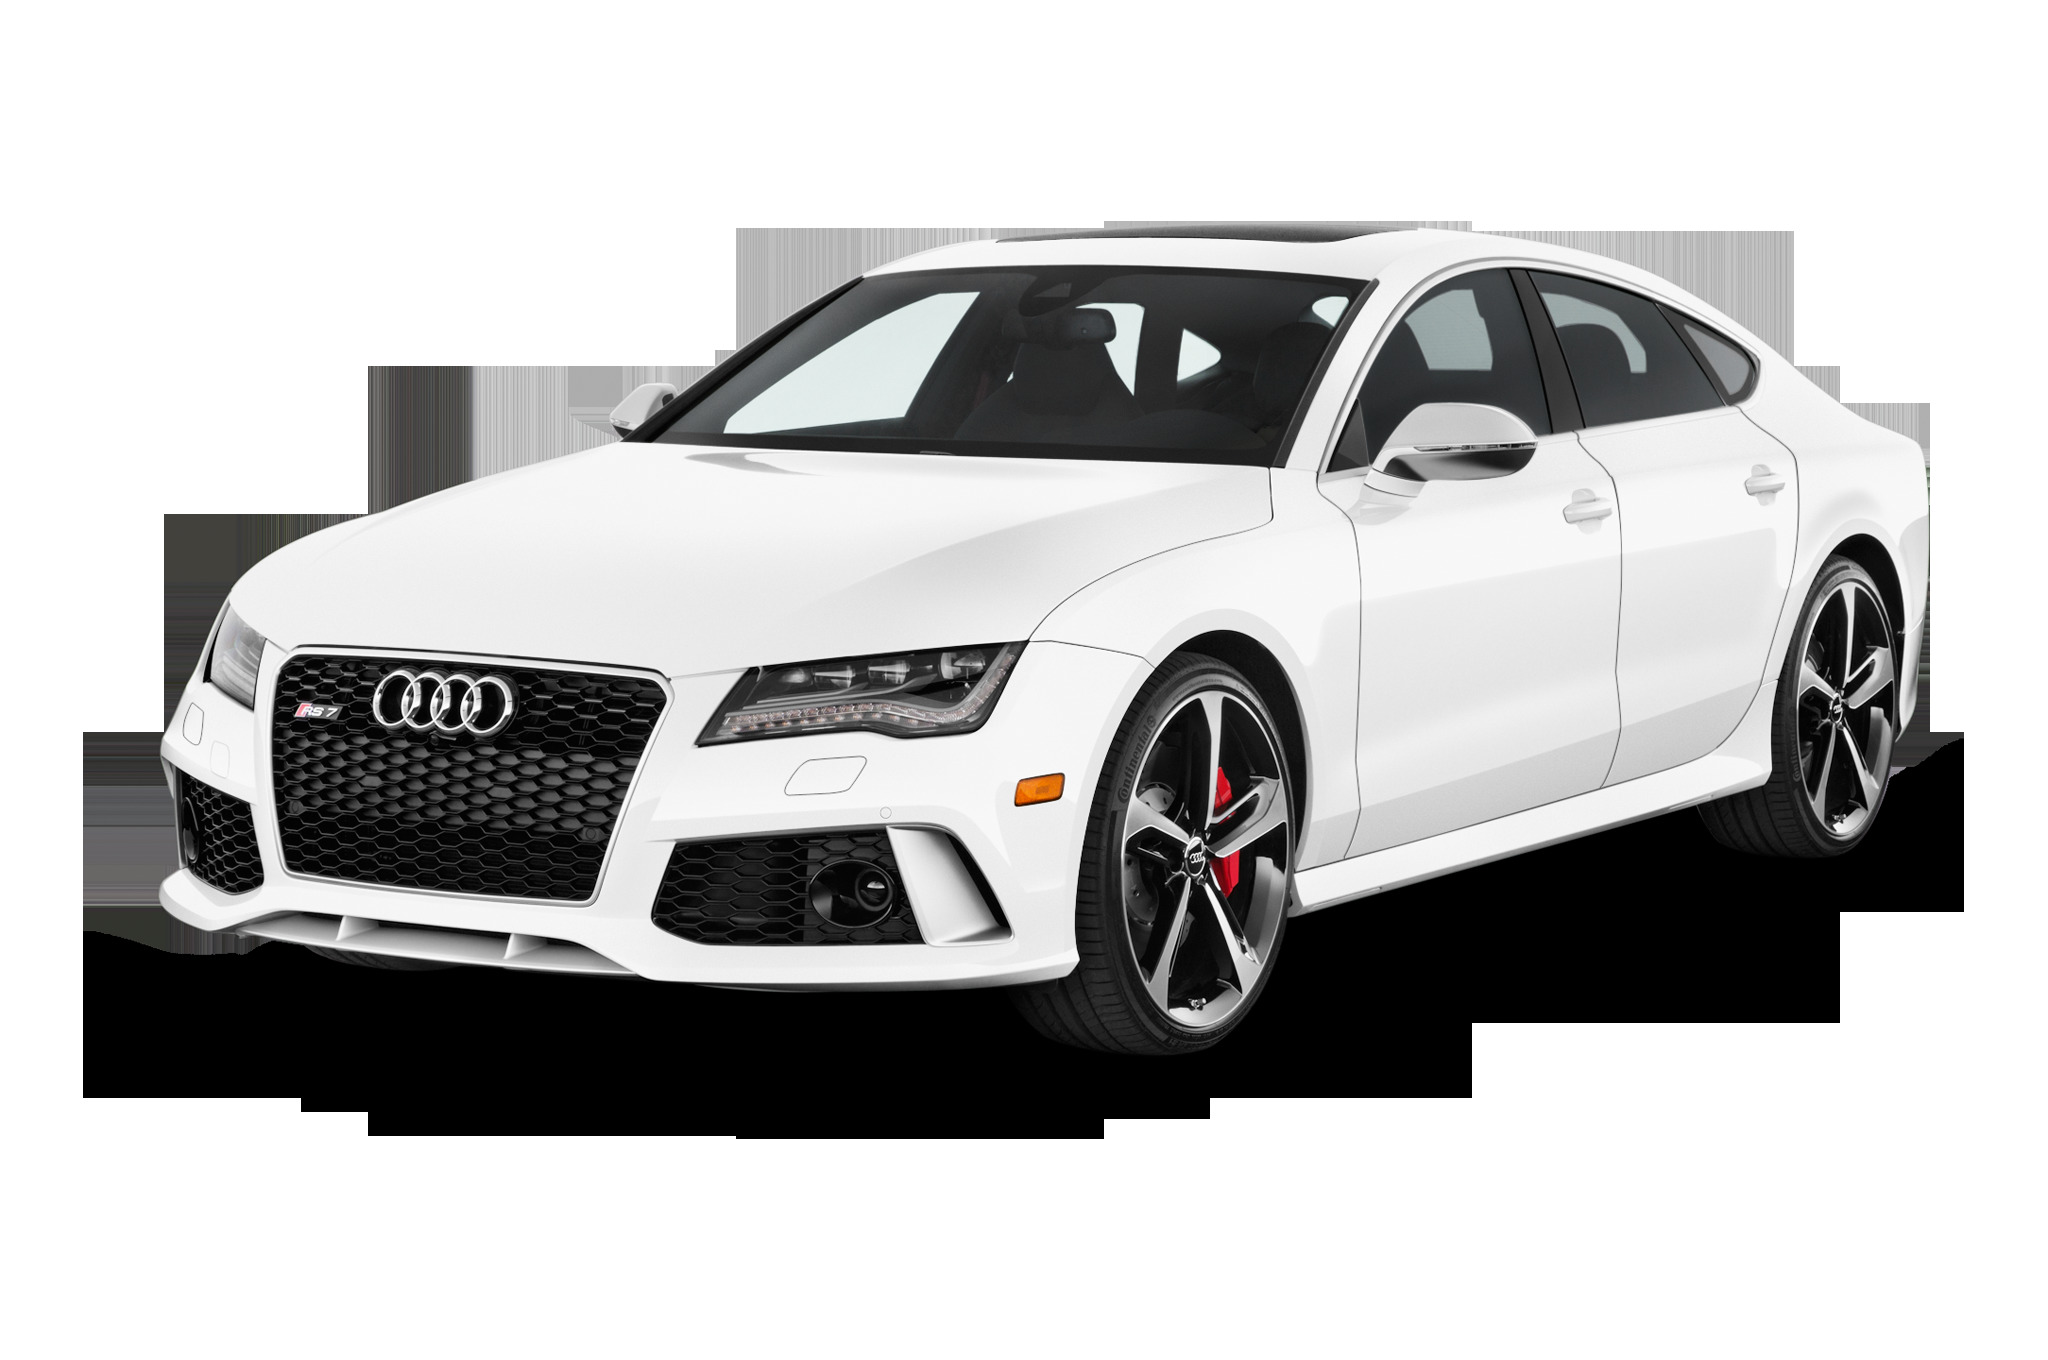audi: (67, 228, 1943, 1072)
